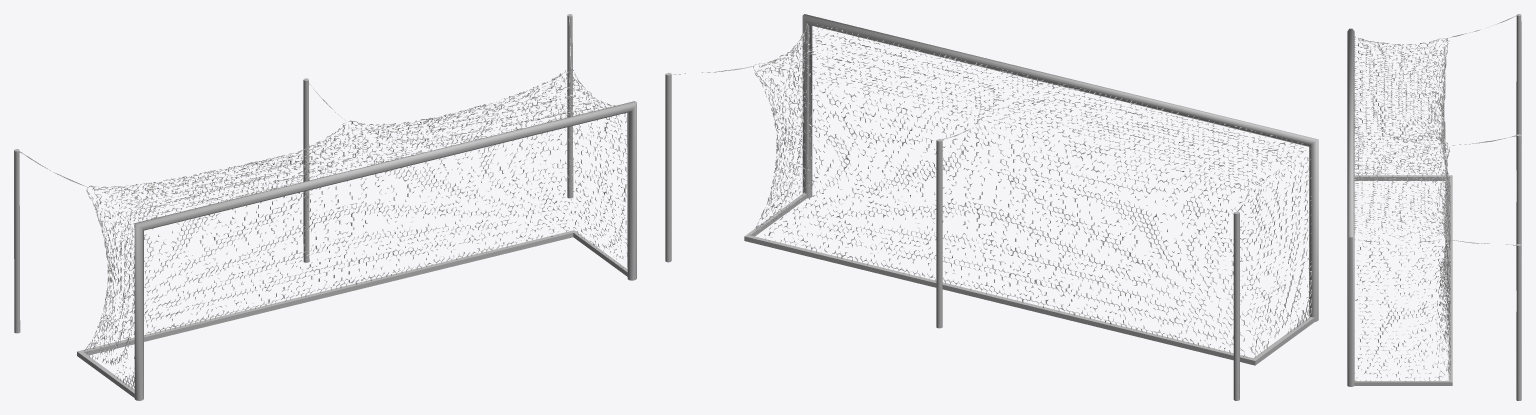
Rendered from goal.glb.
The picture shows the model from 3 angles, left to right: view 1: azimuth 30°, elevation 25°; view 2: azimuth 150°, elevation 25°; view 3: azimuth 270°, elevation 25°; orthographic projection. The views are drawn at different scales.
Parts seen in each view (by area): view 1: object 1, Cylinder002_post_0, Cylinder003_post_0, Cylinder001_post_0; view 2: object 1, Cylinder001_post_0, Cylinder002_post_0, Cylinder003_post_0; view 3: object 1, Cylinder001_post_0, Cylinder003_post_0, Cylinder002_post_0.
Part boxes in pixels (x1=…): object 1: x1=19, y1=17, x2=636, y2=400; Cylinder002_post_0: x1=303, y1=78, x2=309, y2=262; Cylinder003_post_0: x1=14, y1=149, x2=20, y2=333; Cylinder001_post_0: x1=567, y1=14, x2=573, y2=198; object 1: x1=672, y1=14, x2=1318, y2=365; Cylinder001_post_0: x1=665, y1=73, x2=671, y2=262; Cylinder002_post_0: x1=936, y1=139, x2=942, y2=328; Cylinder003_post_0: x1=1233, y1=211, x2=1239, y2=400; object 1: x1=1347, y1=15, x2=1516, y2=386; Cylinder001_post_0: x1=1516, y1=244, x2=1521, y2=400; Cylinder003_post_0: x1=1516, y1=14, x2=1521, y2=169; Cylinder002_post_0: x1=1516, y1=134, x2=1521, y2=290.
Bounding box in the file's own units: 8.29 × 2.59 × 2.63.
Materials: 2 (1 with a texture image).
